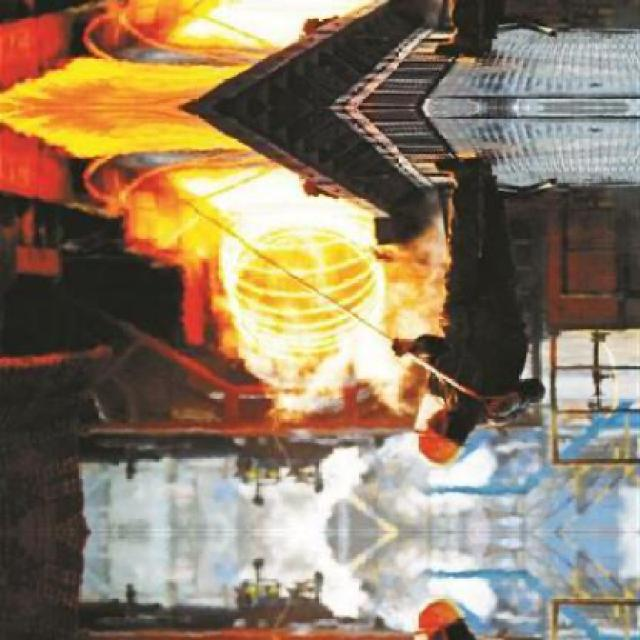con casco: (398, 390, 488, 480)
